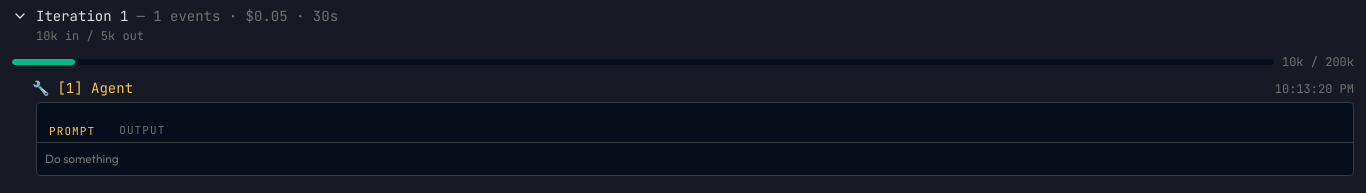
Test case: IterationGroupComponent › tool_output rendering › renders Agent tool_output as markdown (not in a <pre> element) when expanded
Note: Click the Output tab to reveal content
Click the tab "Output" at (142, 130), box [107, 119, 177, 142]
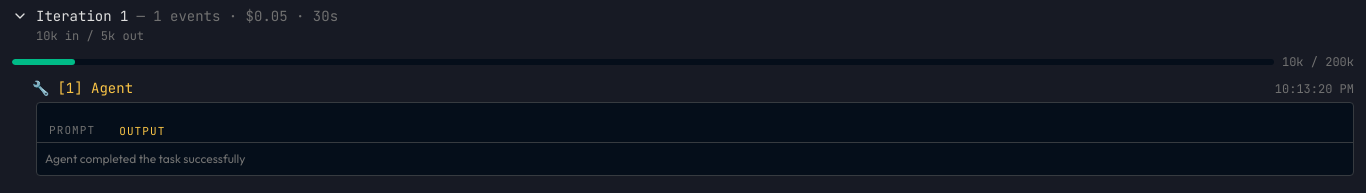
Expected: the text "Agent completed the task successfully" is shown, [45, 151, 245, 166]
